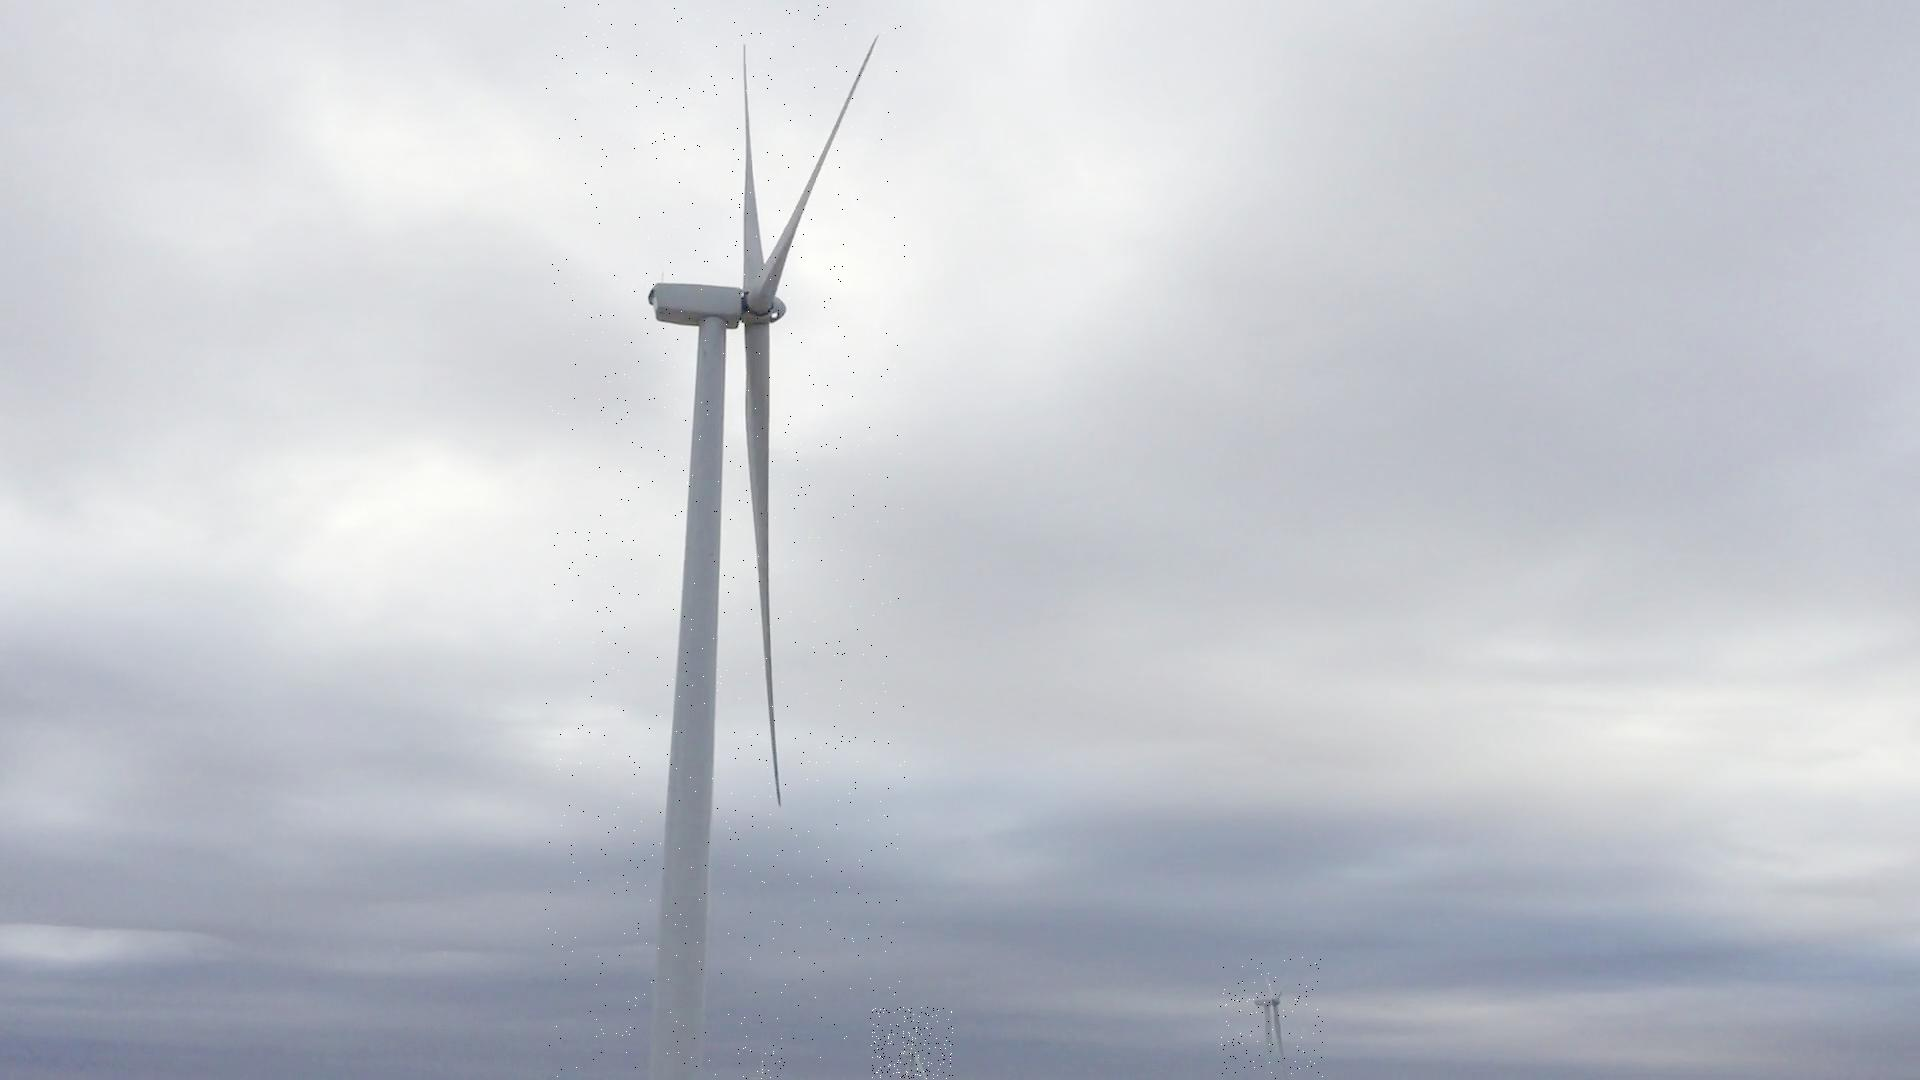turbine: (545, 3, 905, 1080), (1218, 957, 1323, 1080), (872, 1007, 952, 1080), (735, 1047, 787, 1080)
